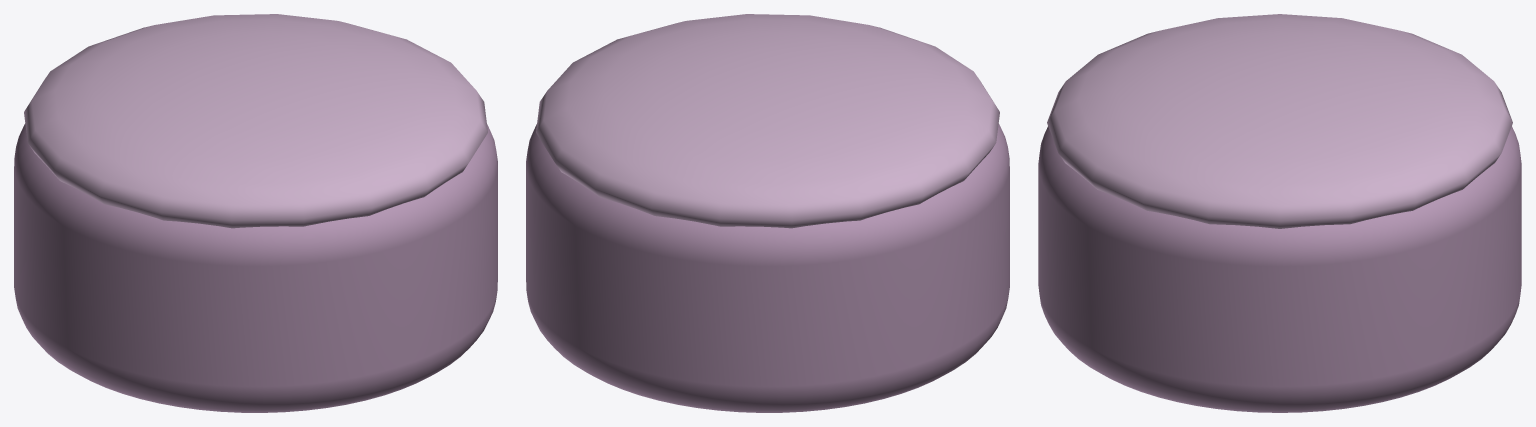
File: other.glb
The picture shows the model from 3 angles, left to right: view 1: azimuth 30°, elevation 25°; view 2: azimuth 150°, elevation 25°; view 3: azimuth 270°, elevation 25°; orthographic projection.
Parts seen in each view (by area): view 1: Корпус пуфа, FurBody; view 2: Корпус пуфа, FurBody; view 3: Корпус пуфа, FurBody.
Part boxes in pixels (left/top/right/bottom): Корпус пуфа: left=14, top=123, right=497, bottom=412; FurBody: left=24, top=14, right=487, bottom=228; Корпус пуфа: left=526, top=123, right=1009, bottom=412; FurBody: left=536, top=14, right=999, bottom=228; Корпус пуфа: left=1038, top=126, right=1521, bottom=412; FurBody: left=1047, top=14, right=1512, bottom=228.
Bounding box in the file's own units: 1.68 × 0.96 × 1.68.
